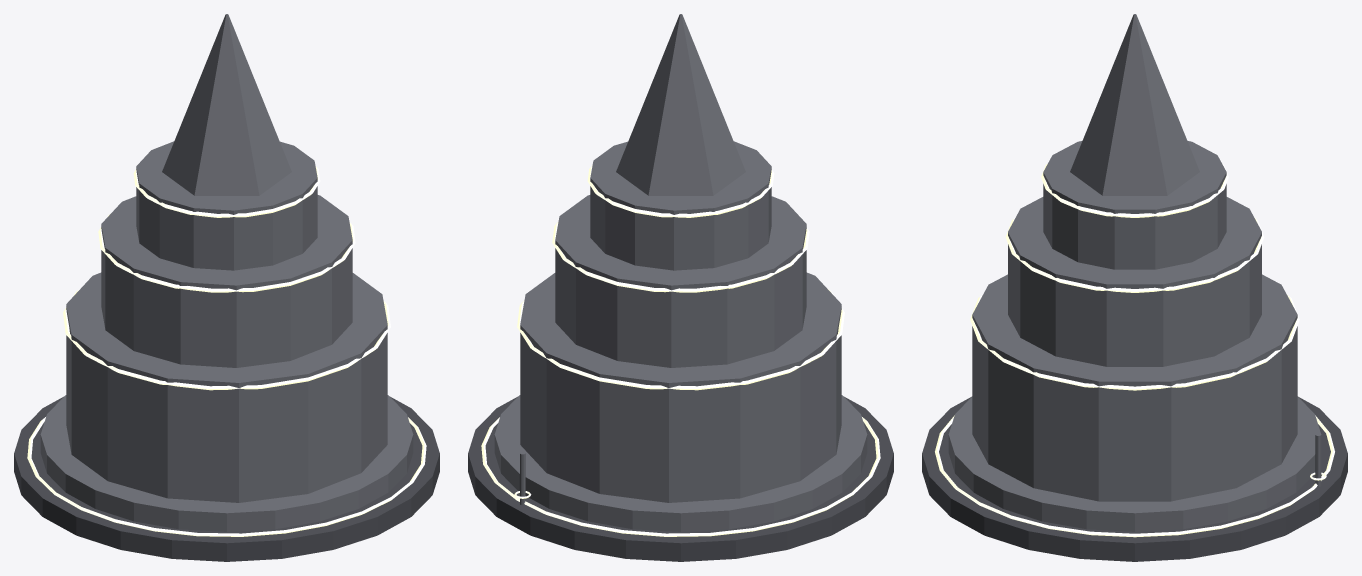
The model's file is zone_high_3_t1.glb.
The picture shows the model from 3 angles, left to right: view 1: azimuth 30°, elevation 25°; view 2: azimuth 150°, elevation 25°; view 3: azimuth 270°, elevation 25°; orthographic projection.
Parts seen in each view (by area): view 1: zone_high_3_t1; view 2: zone_high_3_t1; view 3: zone_high_3_t1.
Boxes of the visible parts, <box> form: zone_high_3_t1: <box>14,14,439,561</box>; zone_high_3_t1: <box>468,14,893,561</box>; zone_high_3_t1: <box>922,14,1347,561</box>.
Bounding box in the file's own units: 28.8 × 34.14 × 28.8.
